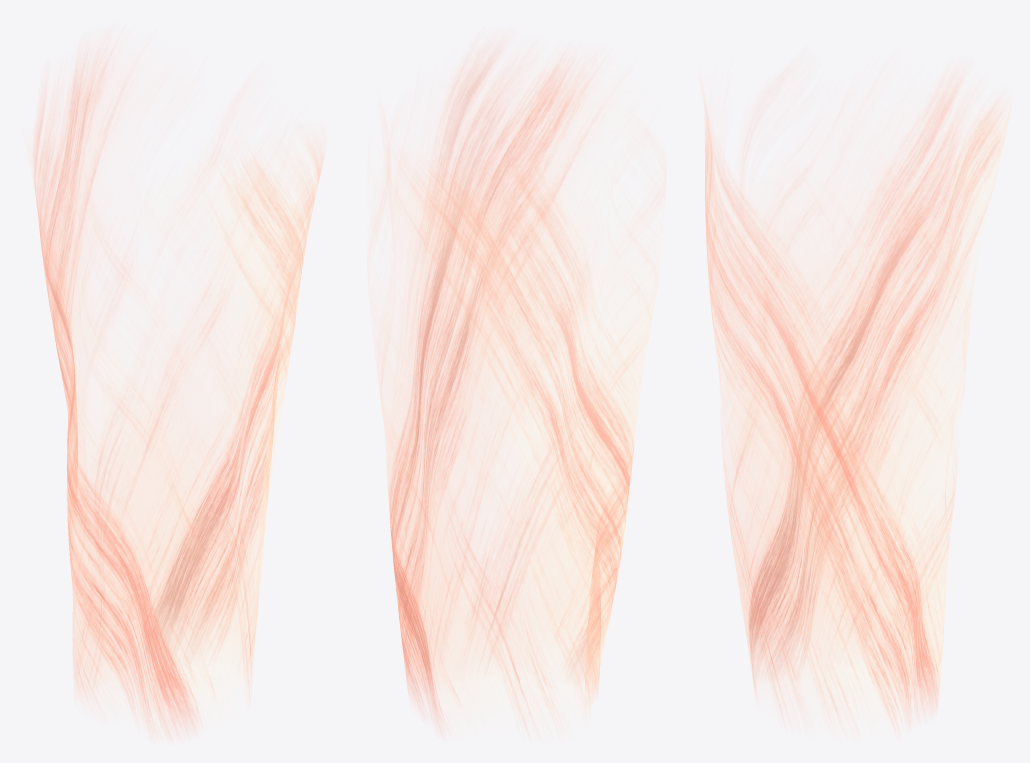
The model's file is devil_mid_2.glb.
3 views of the same model, side by side, from view 1: azimuth 30°, elevation 25°; view 2: azimuth 150°, elevation 25°; view 3: azimuth 270°, elevation 25° (orthographic).
Parts seen in each view (by area): view 1: devil_mid_2; view 2: devil_mid_2; view 3: devil_mid_2.
Part boxes in pixels (left/top/right/bottom): devil_mid_2: left=31, top=45, right=326, bottom=735; devil_mid_2: left=367, top=48, right=666, bottom=729; devil_mid_2: left=703, top=75, right=1010, bottom=730.
Bounding box in the file's own units: 9.68 × 22.4 × 10.3.
1 material, 1 textured.
